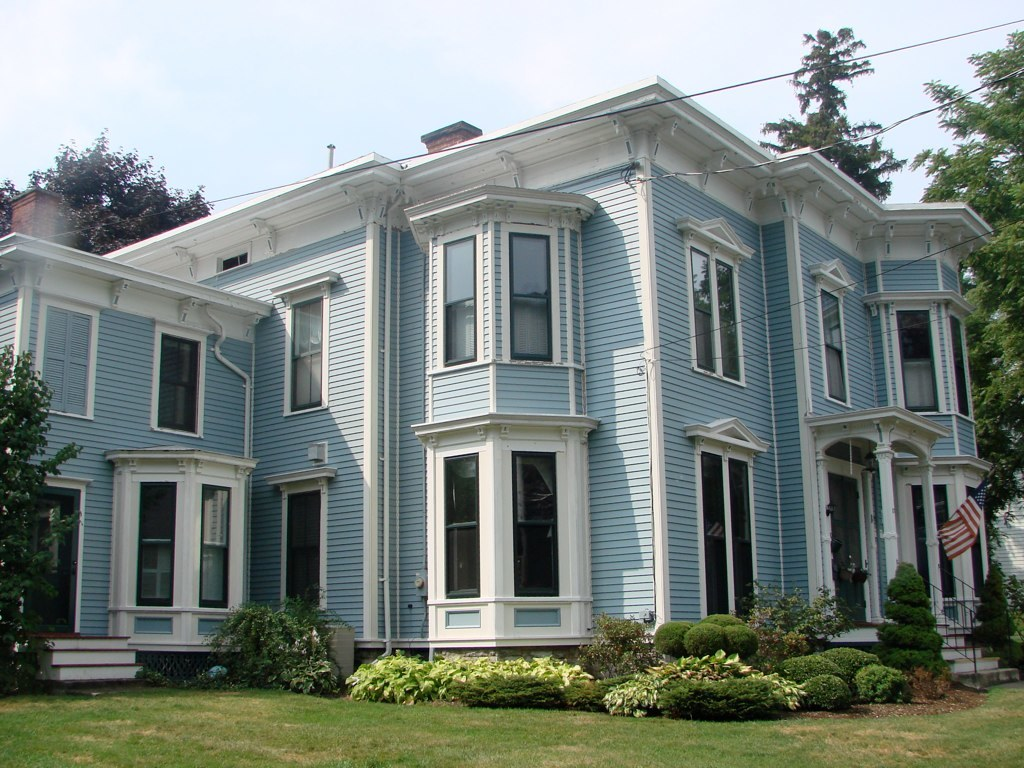Tree: (756, 26, 1024, 560), (0, 340, 81, 700), (2, 129, 213, 249)
